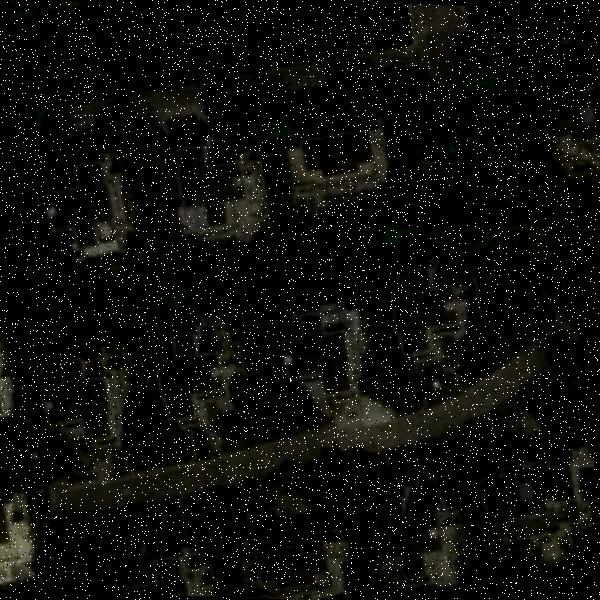Buildings: (384, 262, 475, 362), (479, 456, 589, 538), (274, 310, 363, 403), (151, 334, 233, 428), (44, 161, 128, 252), (44, 357, 120, 441), (376, 482, 441, 578), (292, 130, 381, 196), (176, 150, 241, 222), (258, 527, 334, 588), (548, 85, 600, 157), (0, 495, 42, 582), (137, 551, 208, 597)
